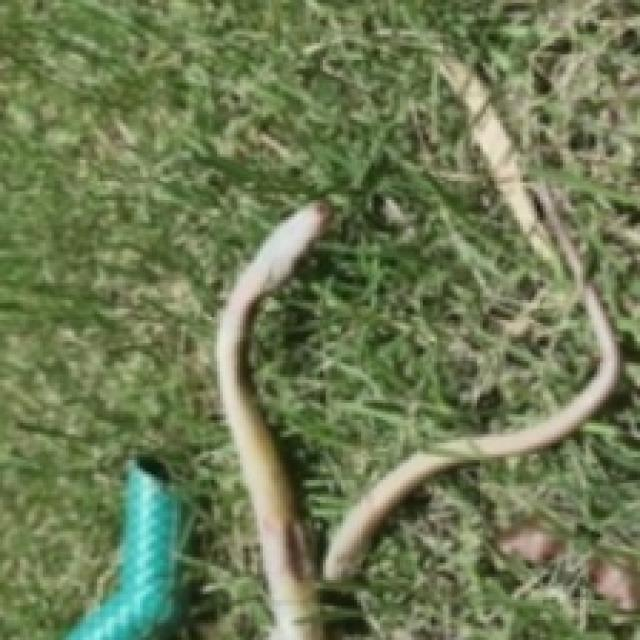reddish rat snake: (323, 54, 617, 580), (217, 203, 329, 637)
